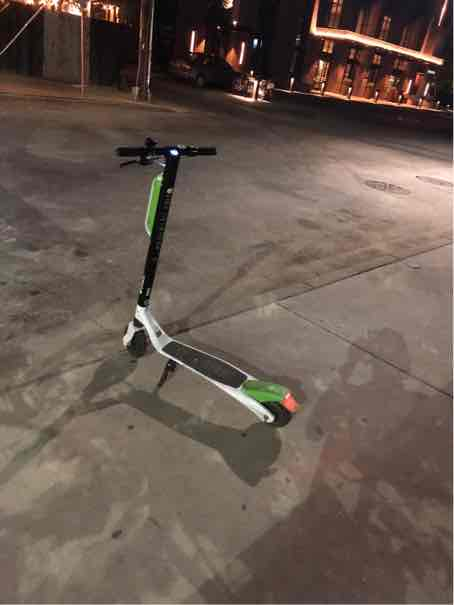scooter: (97, 132, 303, 441)
